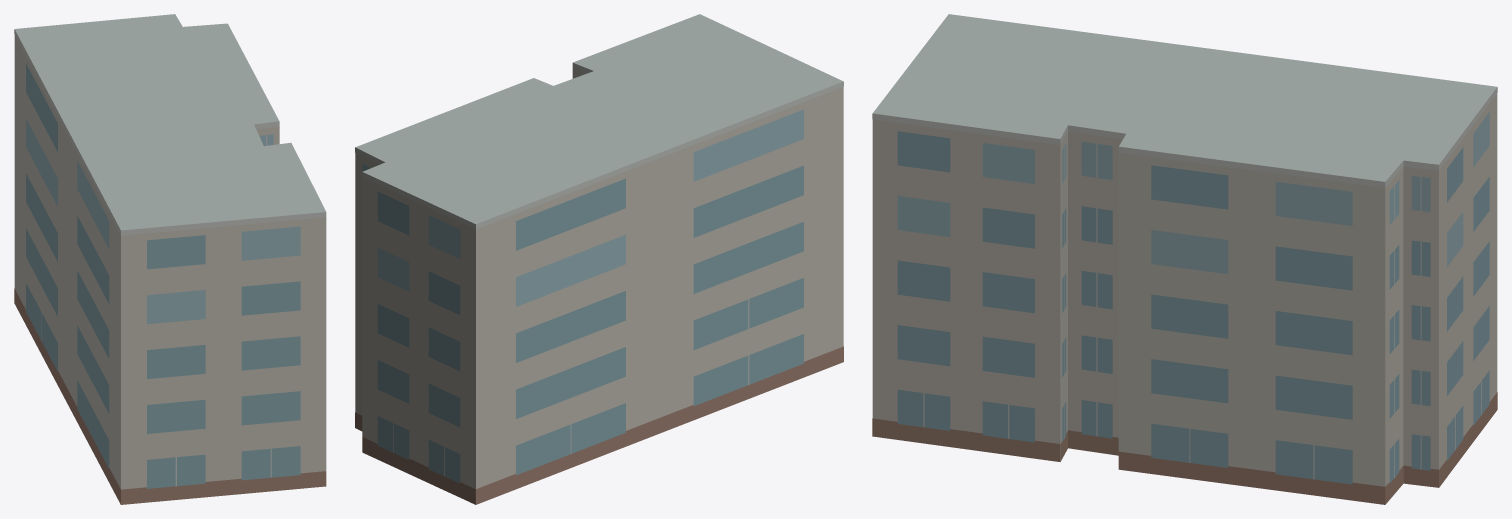
Rendered from survey-upis-32637033.glb.
3 views of the same model, side by side, from view 1: azimuth 30°, elevation 25°; view 2: azimuth 150°, elevation 25°; view 3: azimuth 270°, elevation 25° (orthographic). The views are drawn at different scales.
Visible parts, largest first — view 1: survey-upis-32637033.tmp; view 2: survey-upis-32637033.tmp; view 3: survey-upis-32637033.tmp.
Part boxes in pixels (x1,y1,x2,y2): survey-upis-32637033.tmp: (14, 14, 326, 504); survey-upis-32637033.tmp: (355, 14, 843, 504); survey-upis-32637033.tmp: (872, 14, 1497, 504).
Size of the model in its own units: 14.61 by 13.1 by 22.98.
